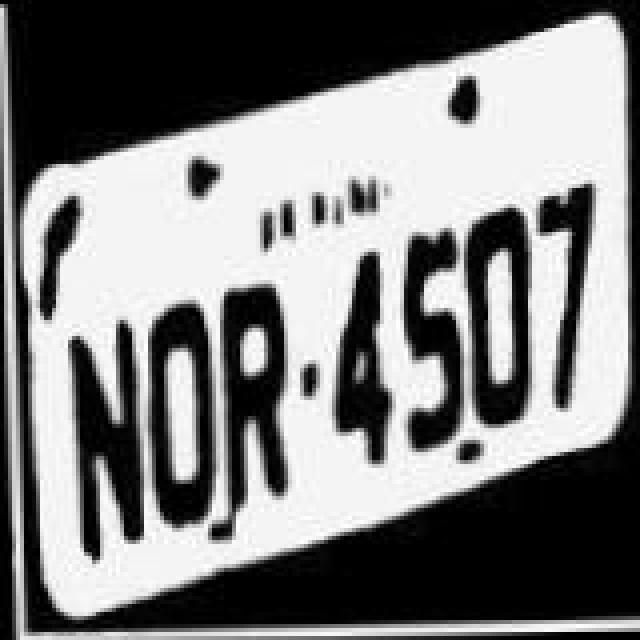4: (322, 246, 398, 494)
5: (386, 224, 470, 456)
7: (530, 162, 614, 430)
N: (66, 304, 150, 584)
O: (140, 270, 216, 530), (460, 202, 540, 434)
R: (208, 272, 300, 512)
